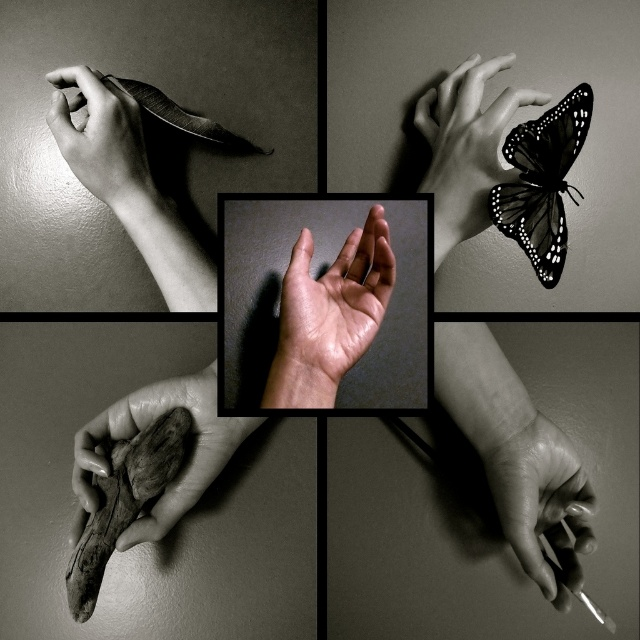Butterfly: (489, 82, 593, 290)
